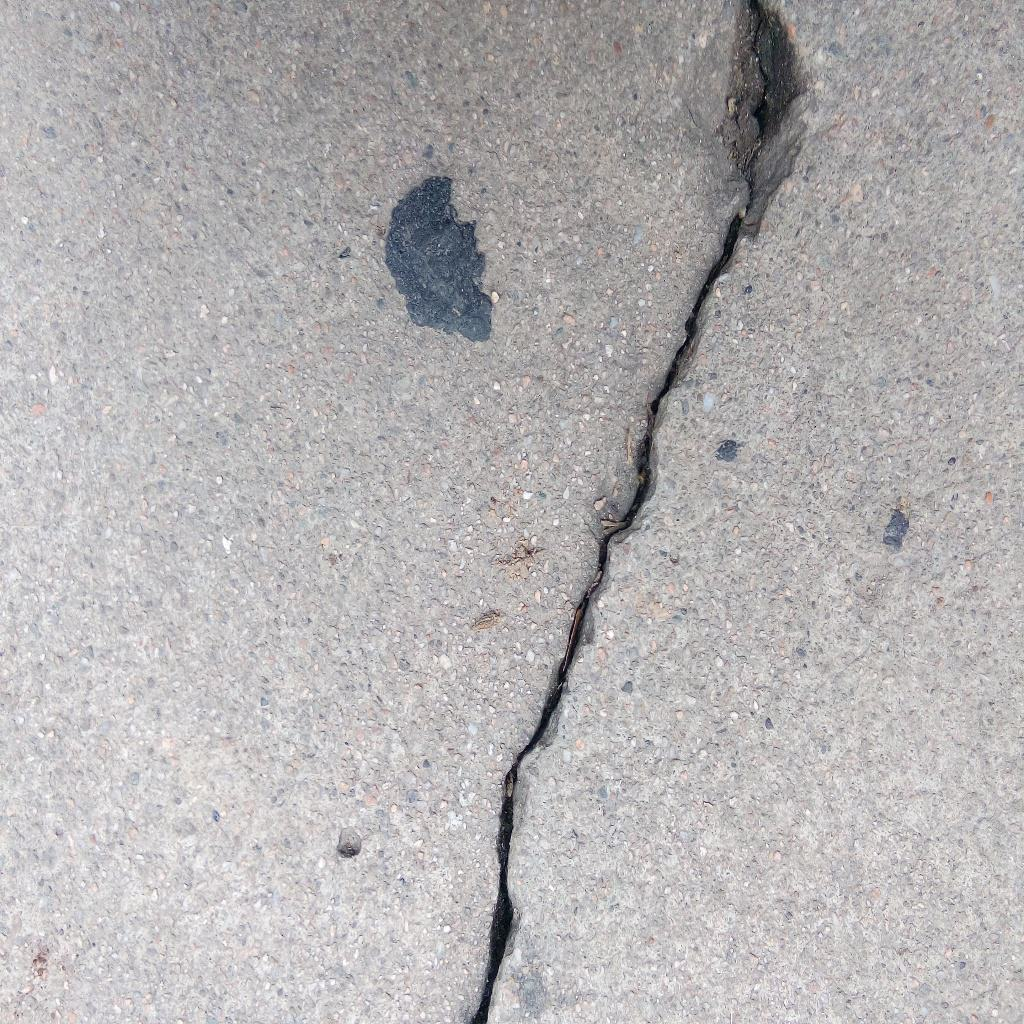Crack: (465, 1, 813, 1024)
